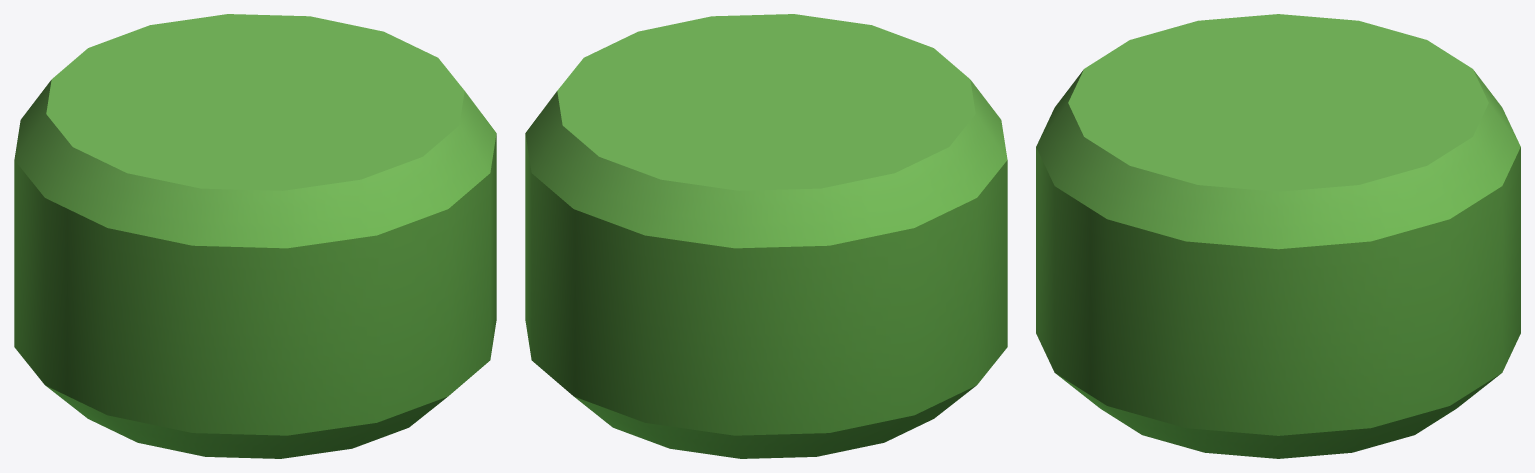
Rendered from Barrier_01.fbx.
3 renders of one model, left to right at view 1: azimuth 30°, elevation 25°; view 2: azimuth 150°, elevation 25°; view 3: azimuth 270°, elevation 25°, orthographic.
Visible parts, largest first — view 1: Barrier_01; view 2: Barrier_01; view 3: Barrier_01.
Part boxes in pixels (left/top/right/bottom): Barrier_01: left=14, top=14, right=496, bottom=458; Barrier_01: left=525, top=14, right=1007, bottom=458; Barrier_01: left=1036, top=14, right=1520, bottom=458.
Size of the model in its own units: 150 by 150 by 93.75.
